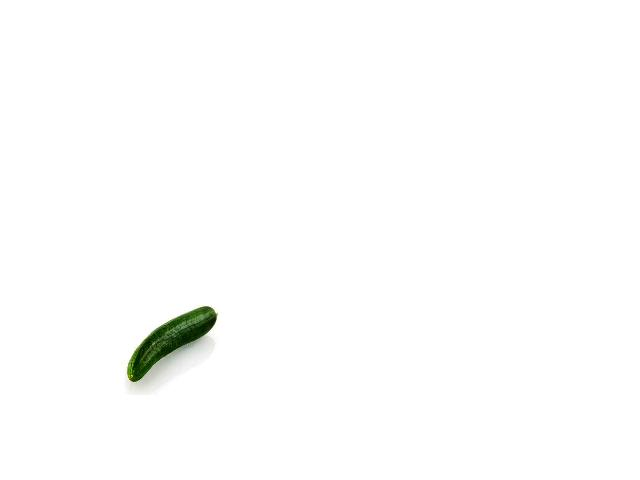cucumber: (127, 306, 216, 382)
